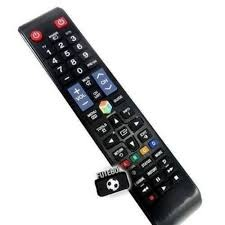remote control: (9, 1, 206, 225)
